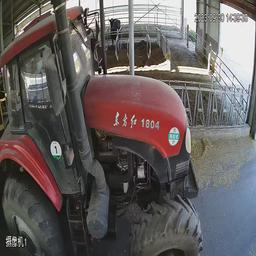cow: (23, 56, 44, 92)
